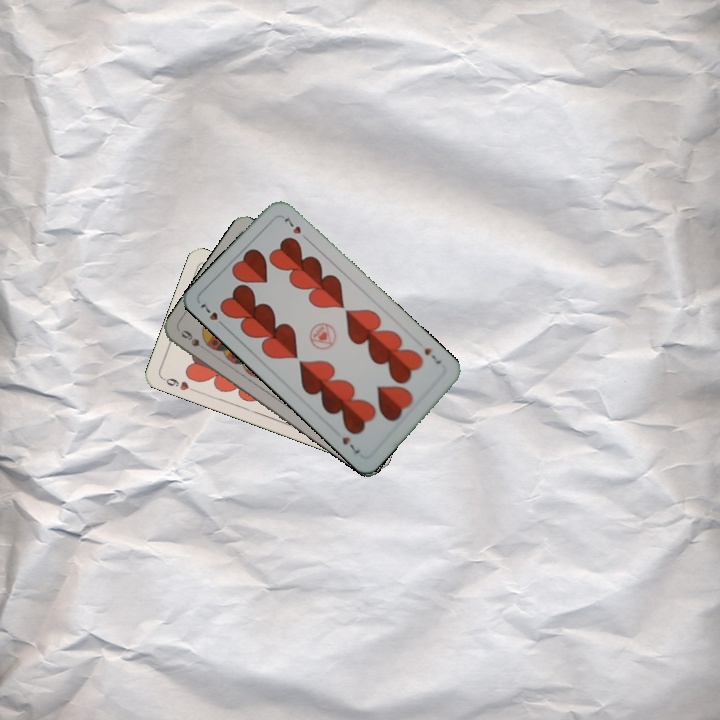H7: (196, 298, 229, 331), (420, 344, 444, 366)
H9: (158, 373, 198, 394)
S9: (177, 326, 211, 355)
